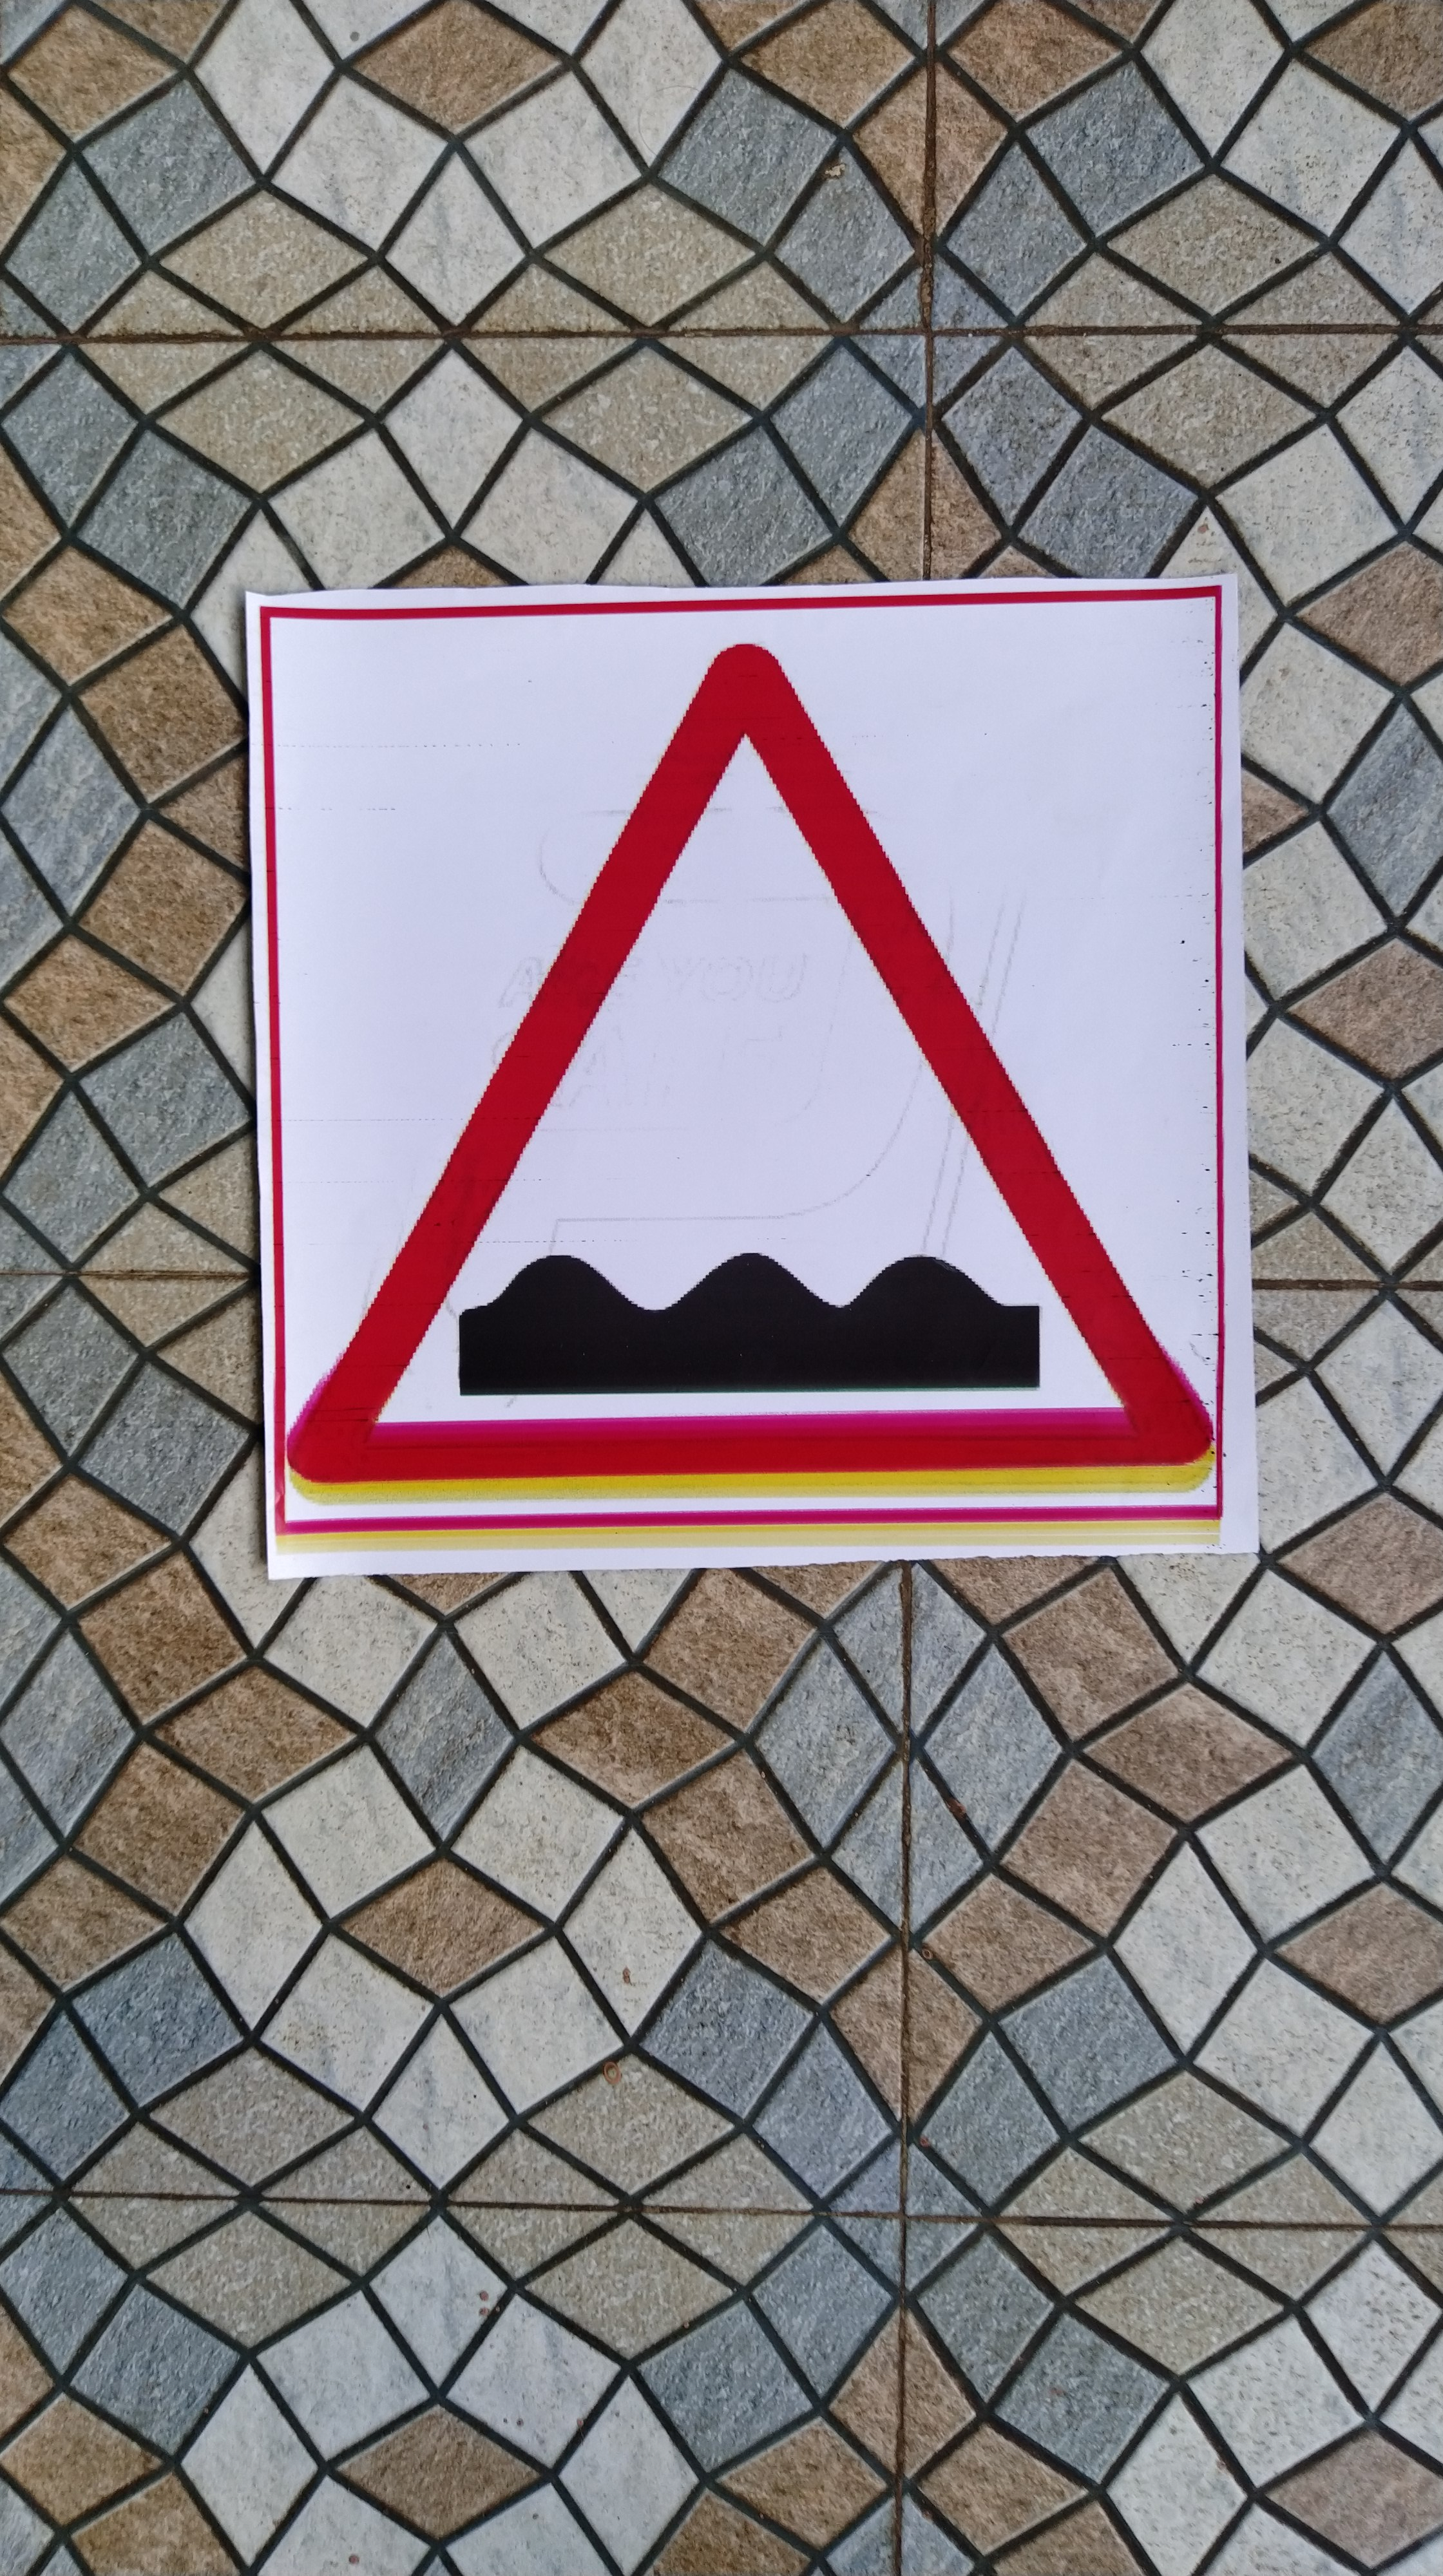speed breaker: (251, 602, 1234, 1548)
